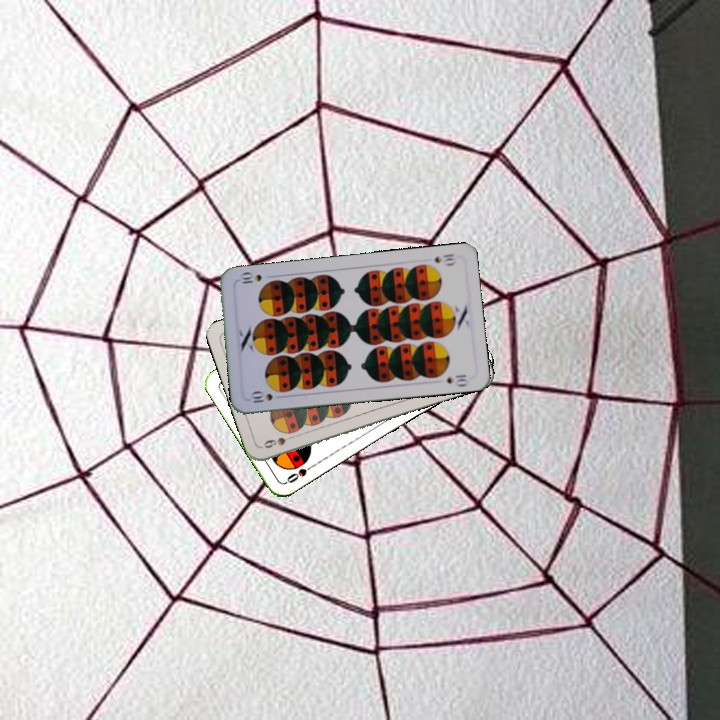S10: (245, 389, 286, 405), (430, 249, 458, 268)
S9: (259, 431, 299, 451)
SO: (282, 460, 319, 486)
